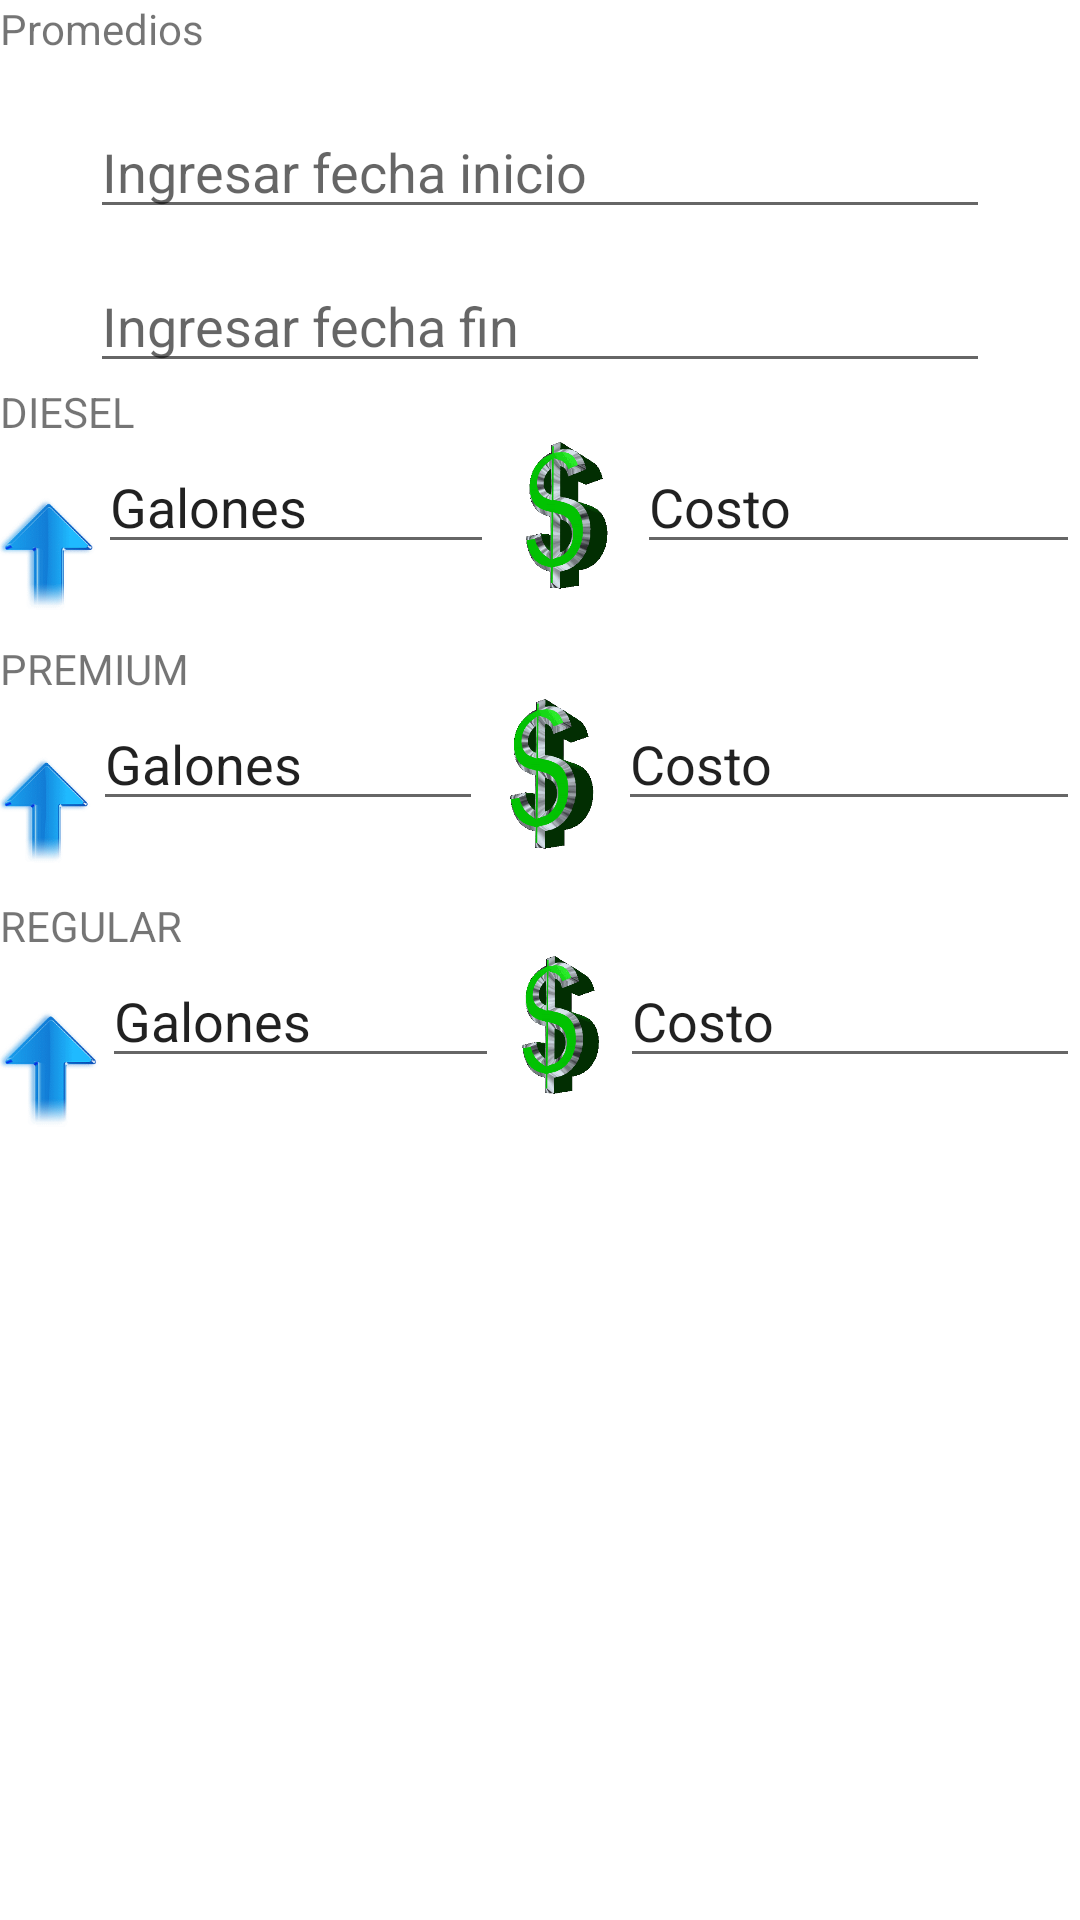

Locate icon controls on the screen. Image size 1080×1920, boxes as region(x1, y1, x2, y2).
arriba: region(1, 502, 93, 605), region(1, 761, 88, 858), region(1, 1014, 96, 1121)
cash: region(526, 442, 608, 589), region(510, 699, 594, 849), region(522, 956, 599, 1094)
